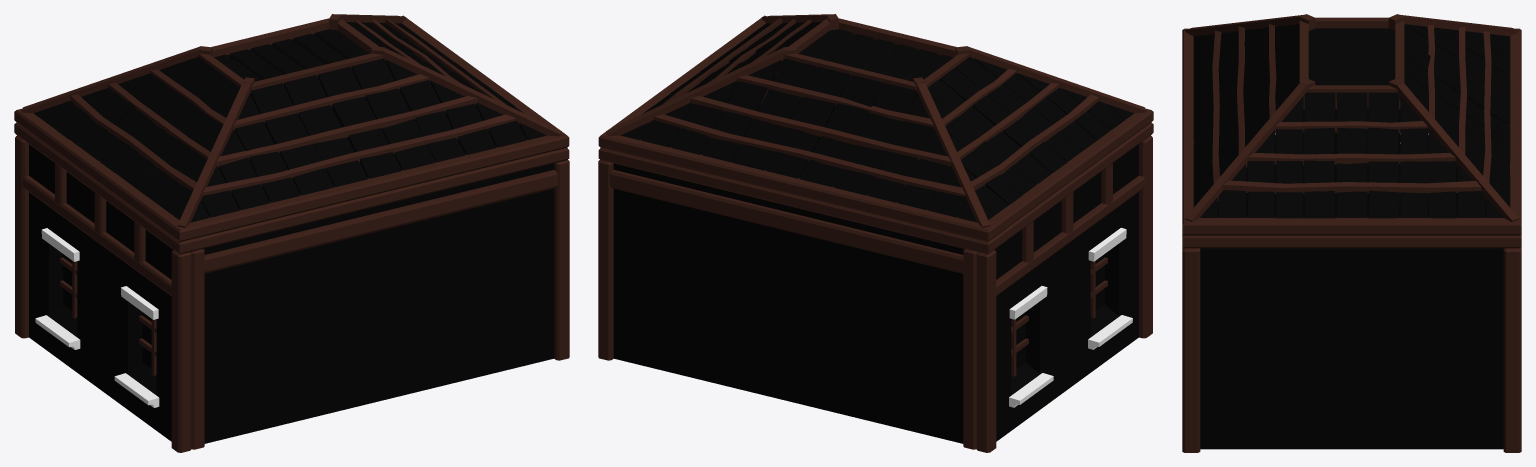
The model's file is roof_building_13.FBX.
The picture shows the model from 3 angles, left to right: view 1: azimuth 30°, elevation 25°; view 2: azimuth 150°, elevation 25°; view 3: azimuth 270°, elevation 25°; orthographic projection. The views are drawn at different scales.
Parts seen in each view (by area): view 1: roof_building_13; view 2: roof_building_13; view 3: roof_building_13.
Boxes of the visible parts, left/top/right/bottom form: roof_building_13: left=14, top=14, right=569, bottom=452; roof_building_13: left=598, top=14, right=1153, bottom=452; roof_building_13: left=1182, top=14, right=1521, bottom=452.
Size of the model in its own units: 839 by 600 by 606.
